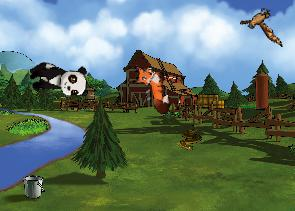eagle: (236, 3, 289, 47)
fox: (130, 61, 171, 117)
panda: (27, 61, 89, 98)
